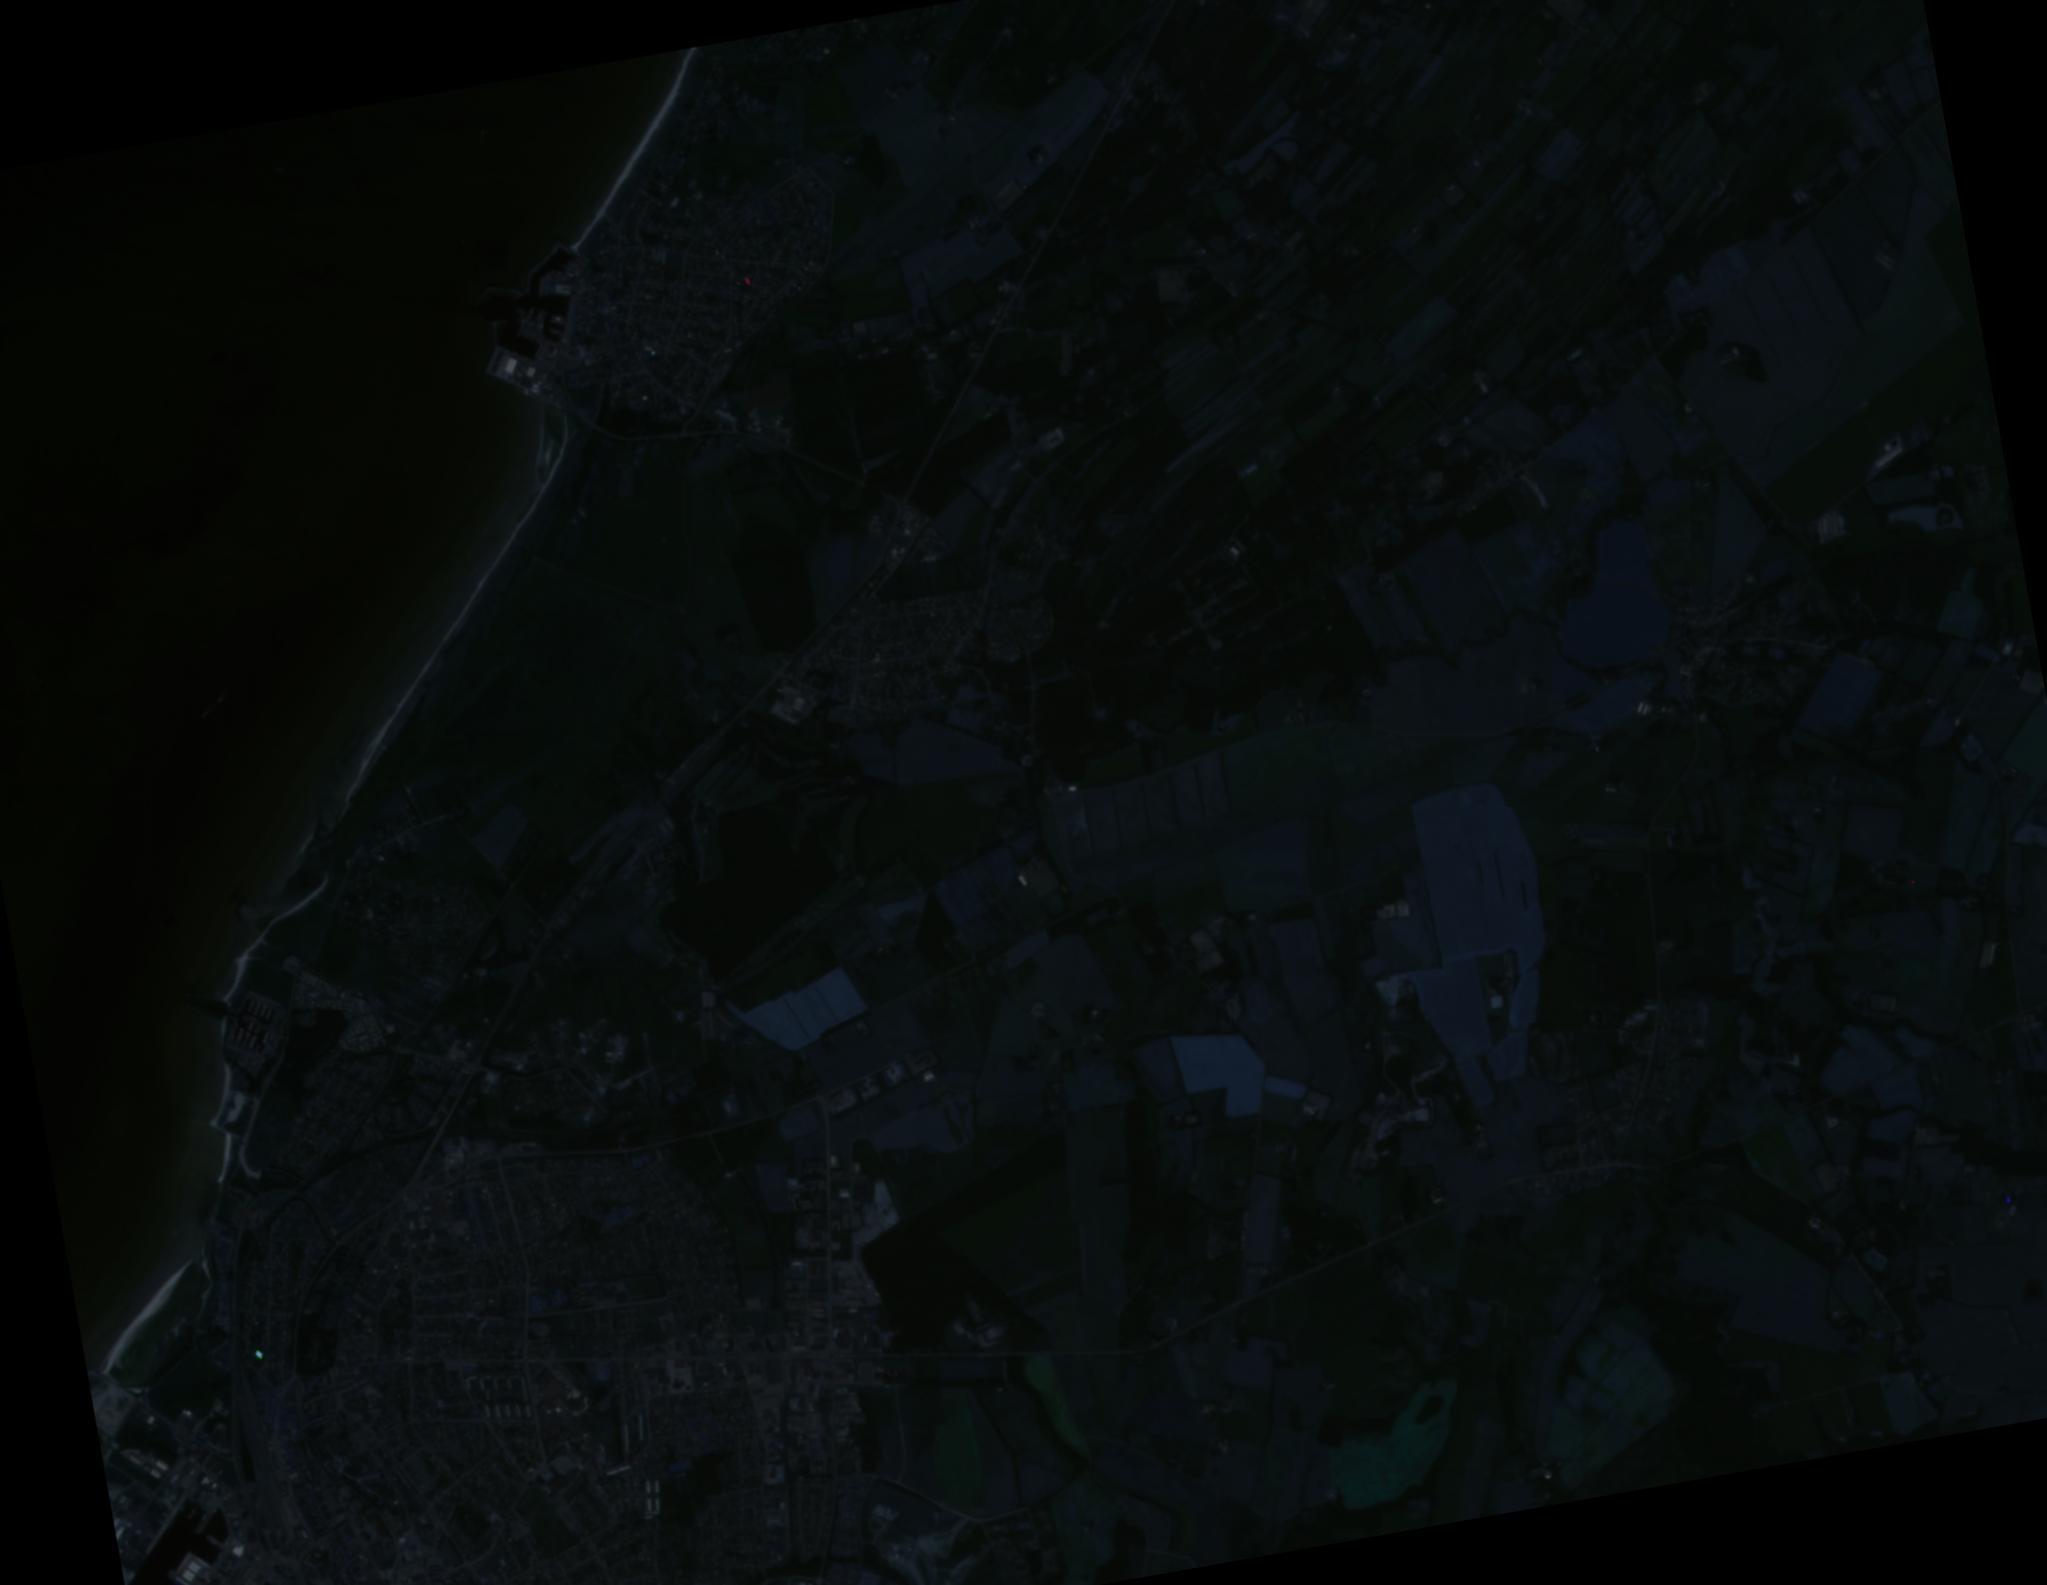ship: (203, 706, 211, 713), (218, 693, 226, 699), (199, 713, 204, 718), (216, 698, 221, 701)
